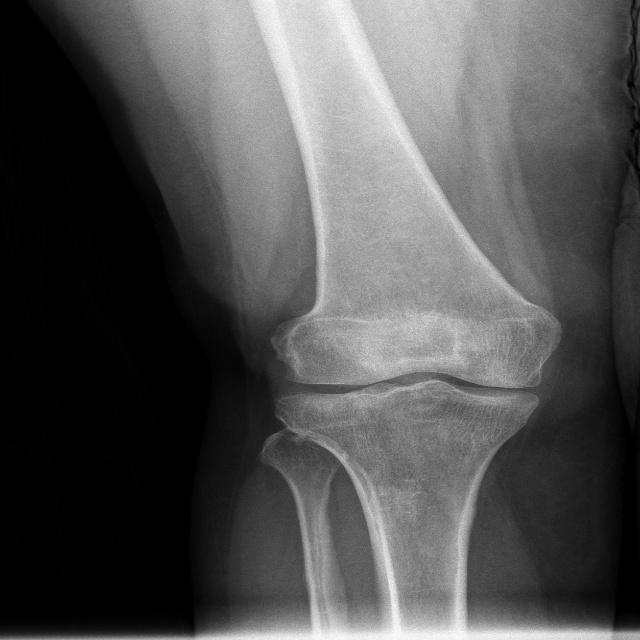Knee: (268, 297, 565, 454)
